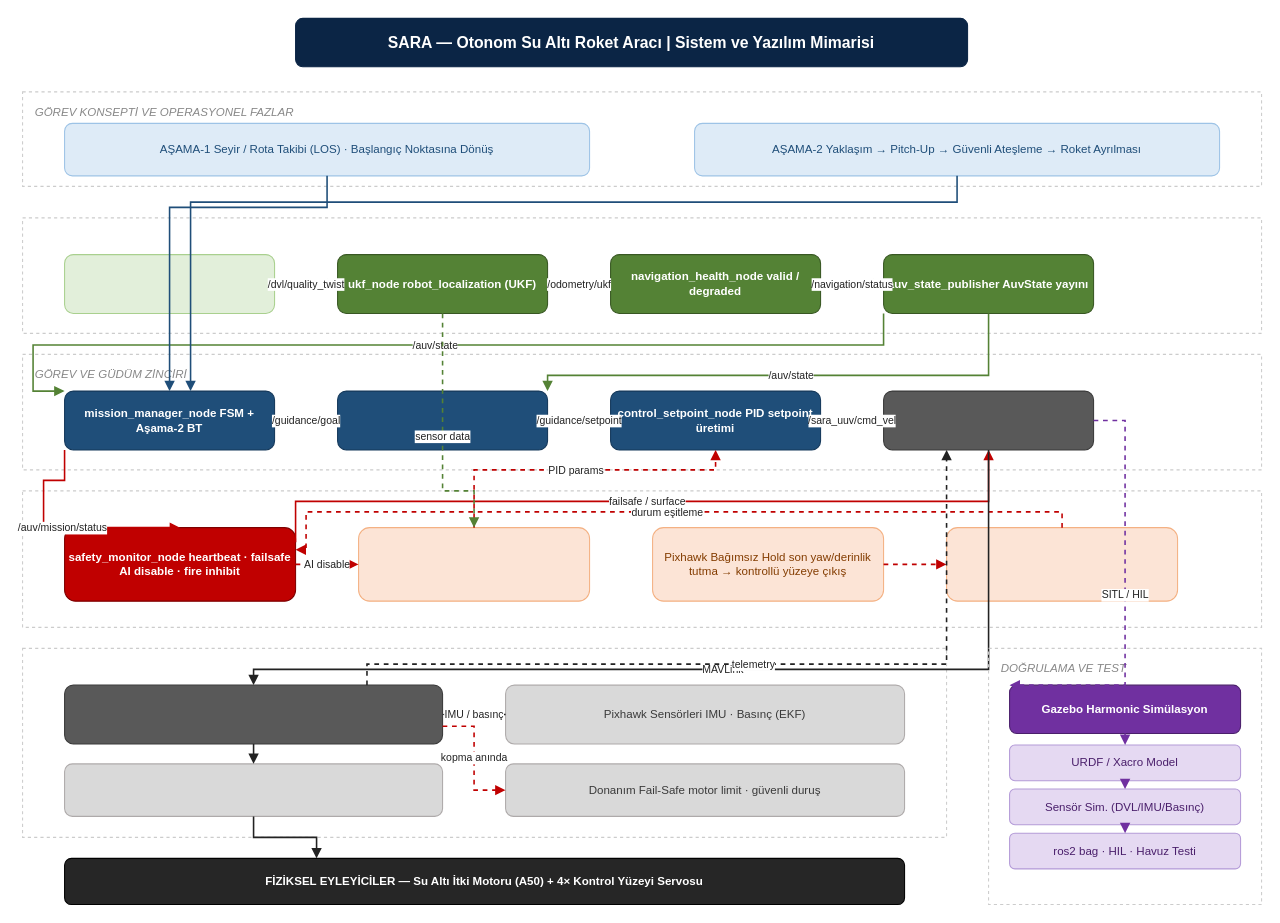
This 1280x923 diagram has some shape labels left out. Each missing label, with the box of its shape:
ArduPilot Otopilot Attitude / Depth Hold · PID iç döngü: (64, 684, 443, 744)
dvl_quality_gate_node DVL kalite kontrolü: (64, 254, 275, 313)
GERÇEK ZAMANLI KONTROL KATMANI — Pixhawk 2.4.8 / ArduPilot: (22, 647, 947, 837)
guidance_node LOS / Waypoint: (337, 390, 548, 450)
GÜVENLİK VE ADAPTİF KONTROL KATMANI: (22, 490, 1262, 627)
mavlink_bridge_node MAVLink TX / RX: (883, 390, 1094, 450)
NAVİGASYON ZİNCİRİ (ROS 2 · Raspberry Pi 5): (22, 217, 1262, 333)
PWM / Servo Çıkışı 1 itki motoru + 4 kuyruk servosu: (64, 763, 443, 816)
Reconnect + State Sync bağlantı sonrası görev kurtarma: (946, 527, 1178, 601)
RL Tuner (SAC) PID kazanç ayarlayıcı [ateşlemede devre dışı]: (358, 527, 590, 601)
